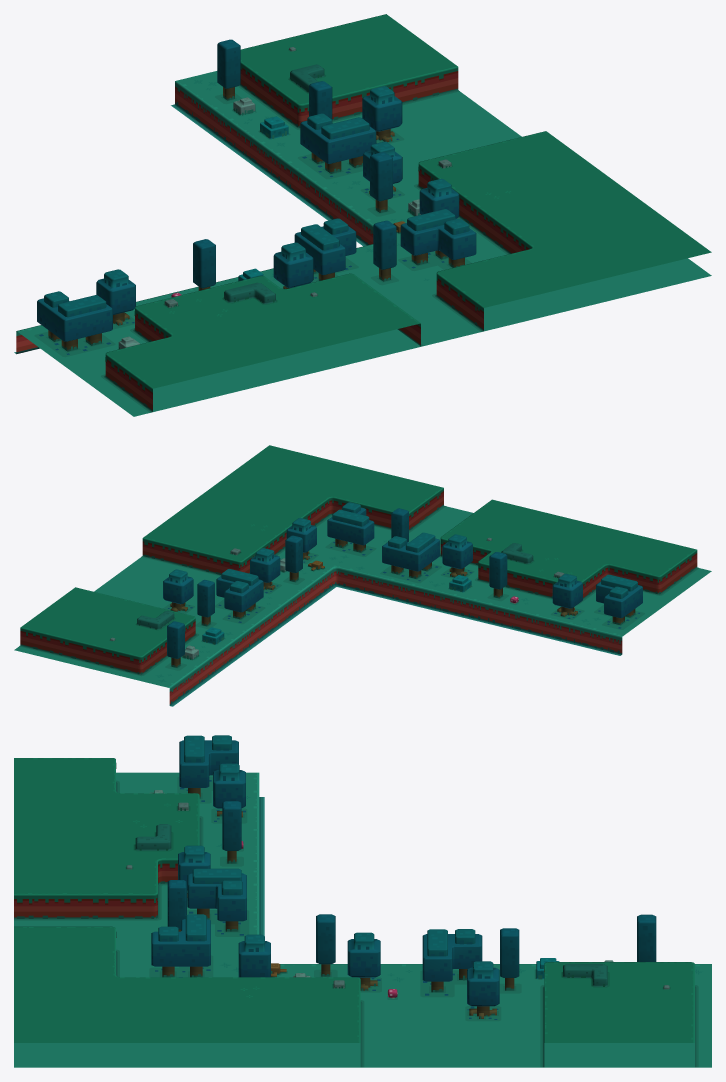
Rendered from C_forest1_out_LU.fbx.
The picture shows the model from 3 angles, top to bottom: view 1: azimuth 30°, elevation 25°; view 2: azimuth 150°, elevation 25°; view 3: azimuth 270°, elevation 25°; orthographic projection. The views are drawn at different scales.
Visible parts, largest first — view 1: C_forest1_out_LU; view 2: C_forest1_out_LU; view 3: C_forest1_out_LU.
Boxes of the visible parts, box(x1,y1,x2,y2) form: C_forest1_out_LU: box(14, 14, 711, 416); C_forest1_out_LU: box(14, 445, 711, 706); C_forest1_out_LU: box(14, 735, 711, 1067).
Size of the model in its own units: 117 by 15.19 by 117.
